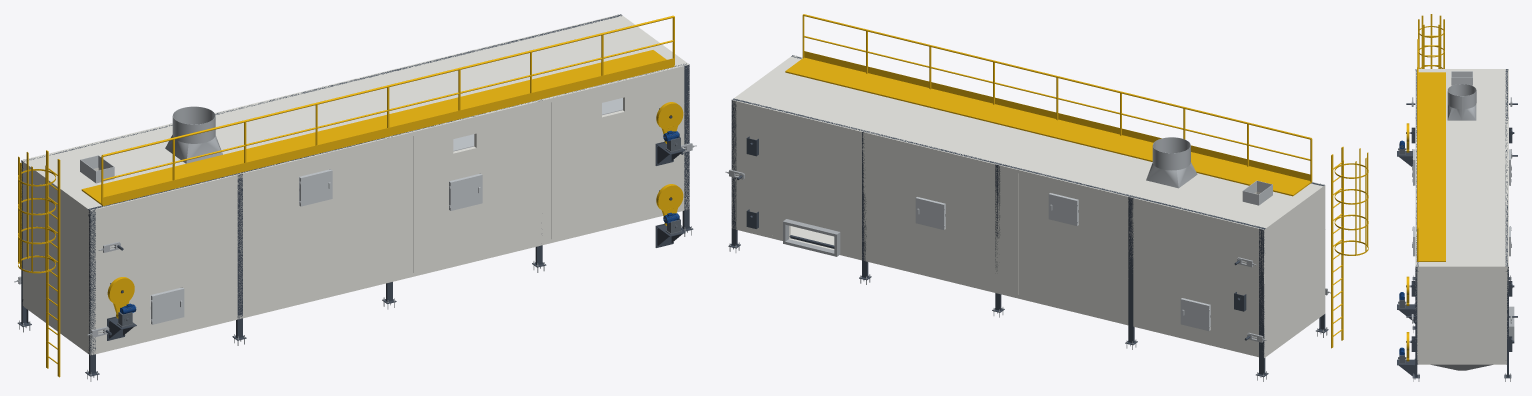
The model's file is secador_SC4.glb.
The picture shows the model from 3 angles, left to right: view 1: azimuth 30°, elevation 25°; view 2: azimuth 150°, elevation 25°; view 3: azimuth 270°, elevation 25°; orthographic projection. The views are drawn at different scales.
Visible parts, largest first — view 1: 4.8a Paneles sándwich 80 mm – lado Sur (accionamientos)#5, 4.8e Paneles sándwich 80 mm – techo#9, 4.13 Pasarela superior con baranda y escalera marinera con j, 4.8c Paneles sándwich 80 mm – testero Oeste#7, 4.11a Columnas UPN 120 × 3.388 mm#0, 4.9 Puertas de inspección 700 × 600 con leva y microinterrup, 4.12 Campana de salida 800 × 800 y arranque del conducto Ø80, 4.8f Paneles sándwich 80 mm – piso de la cámara#10, 4.11b Vigas longitudinales IPN 140 × 13.000 mm#1, 4.8b Paneles sándwich 80 mm – lado Norte#6, 4.15c-2 Cárter protector de la cadena (chapa 1,6 mm) – piso , 4.19c Boca de alimentación desde la cinta de alimentación (3 (+2 smaller); view 2: 4.8b Paneles sándwich 80 mm – lado Norte#6, 4.8e Paneles sándwich 80 mm – techo#9, 4.13 Pasarela superior con baranda y escalera marinera con j, 4.8c Paneles sándwich 80 mm – testero Oeste#7, 4.11a Columnas UPN 120 × 3.388 mm#0, 4.9 Puertas de inspección 700 × 600 con leva y microinterrup, 4.12 Campana de salida 800 × 800 y arranque del conducto Ø80, 4.11b Vigas longitudinales IPN 140 × 13.000 mm#1, 4.19b Boca de entrada de aire caliente 1.200 × 400 con brida, 4.8f Paneles sándwich 80 mm – piso de la cámara#10, 4.19c Boca de alimentación desde la cinta de alimentación (3; view 3: 4.8e Paneles sándwich 80 mm – techo#9, 4.8d Paneles sándwich 80 mm – testero Este#8, 4.13 Pasarela superior con baranda y escalera marinera con j, 4.12 Campana de salida 800 × 800 y arranque del conducto Ø80, 4.11b Vigas longitudinales IPN 140 × 13.000 mm#1, 4.8b Paneles sándwich 80 mm – lado Norte#6, 4.8a Paneles sándwich 80 mm – lado Sur (accionamientos)#5, 4.11a Columnas UPN 120 × 3.388 mm#0, 4.9 Puertas de inspección 700 × 600 con leva y microinterrup, 4.19c Boca de alimentación desde la cinta de alimentación (3, 4.19a Tolva de descarga al sinfín (10)#61, 4.16b-3 Consola del motorreductor con colisos – piso 3#59 (+8 smaller).
Part boxes in pixels (<box>): 4.8a Paneles sándwich 80 mm – lado Sur (accionamientos)#5: <box>88,63,689,355</box>; 4.8e Paneles sándwich 80 mm – techo#9: <box>21,14,688,213</box>; 4.13 Pasarela superior con baranda y escalera marinera con j: <box>18,15,674,377</box>; 4.8c Paneles sándwich 80 mm – testero Oeste#7: <box>23,161,91,353</box>; 4.11a Columnas UPN 120 × 3.388 mm#0: <box>21,14,689,373</box>; 4.9 Puertas de inspección 700 × 600 con leva y microinterrup: <box>151,169,482,324</box>; 4.12 Campana de salida 800 × 800 y arranque del conducto Ø80: <box>165,106,222,163</box>; 4.8f Paneles sándwich 80 mm – piso de la cámara#10: <box>22,217,655,354</box>; 4.11b Vigas longitudinales IPN 140 × 13.000 mm#1: <box>22,14,686,353</box>; 4.8b Paneles sándwich 80 mm – lado Norte#6: <box>21,14,621,301</box>; 4.15c-2 Cárter protector de la cadena (chapa 1,6 mm) – piso : <box>107,277,134,318</box>; 4.19c Boca de alimentación desde la cinta de alimentación (3: <box>80,155,114,183</box>; 4.8b Paneles sándwich 80 mm – lado Norte#6: <box>731,100,1265,357</box>; 4.8e Paneles sándwich 80 mm – techo#9: <box>732,56,1321,232</box>; 4.13 Pasarela superior con baranda y escalera marinera con j: <box>785,14,1368,348</box>; 4.8c Paneles sándwich 80 mm – testero Oeste#7: <box>1263,185,1323,356</box>; 4.11a Columnas UPN 120 × 3.388 mm#0: <box>731,55,1325,374</box>; 4.9 Puertas de inspección 700 × 600 con leva y microinterrup: <box>915,193,1210,331</box>; 4.12 Campana de salida 800 × 800 y arranque del conducto Ø80: <box>1146,137,1197,188</box>; 4.11b Vigas longitudinales IPN 140 × 13.000 mm#1: <box>732,55,1323,248</box>; 4.19b Boca de entrada de aire caliente 1.200 × 400 con brida: <box>783,219,840,256</box>; 4.8f Paneles sándwich 80 mm – piso de la cámara#10: <box>738,226,1288,357</box>; 4.19c Boca de alimentación desde la cinta de alimentación (3: <box>1242,180,1272,205</box>; 4.8e Paneles sándwich 80 mm – techo#9: <box>1415,69,1508,269</box>; 4.8d Paneles sándwich 80 mm – testero Este#8: <box>1418,265,1505,364</box>; 4.13 Pasarela superior con baranda y escalera marinera con j: <box>1417,14,1445,261</box>; 4.12 Campana de salida 800 × 800 y arranque del conducto Ø80: <box>1447,84,1476,120</box>; 4.11b Vigas longitudinales IPN 140 × 13.000 mm#1: <box>1416,69,1507,364</box>; 4.8b Paneles sándwich 80 mm – lado Norte#6: <box>1506,69,1508,364</box>; 4.8a Paneles sándwich 80 mm – lado Sur (accionamientos)#5: <box>1415,69,1418,363</box>; 4.11a Columnas UPN 120 × 3.388 mm#0: <box>1415,69,1508,377</box>; 4.9 Puertas de inspección 700 × 600 con leva y microinterrup: <box>1412,149,1511,256</box>; 4.19c Boca de alimentación desde la cinta de alimentación (3: <box>1451,71,1472,85</box>; 4.19a Tolva de descarga al sinfín (10)#61: <box>1431,364,1492,370</box>; 4.16b-3 Consola del motorreductor con colisos – piso 3#59: <box>1397,359,1415,379</box>.
Bounding box in the file's own units: 14.36 × 4.73 × 3.35.
